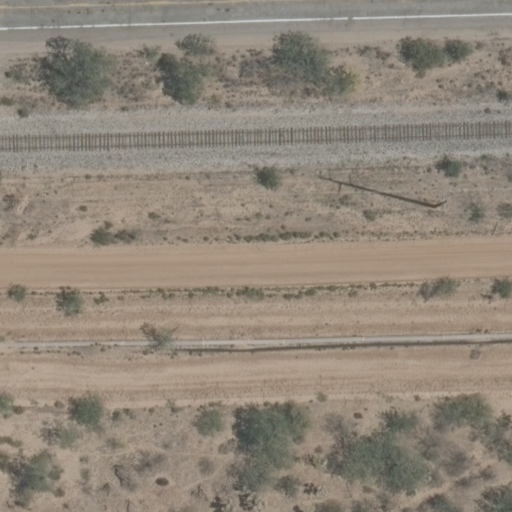DT: (428, 193, 453, 208)
